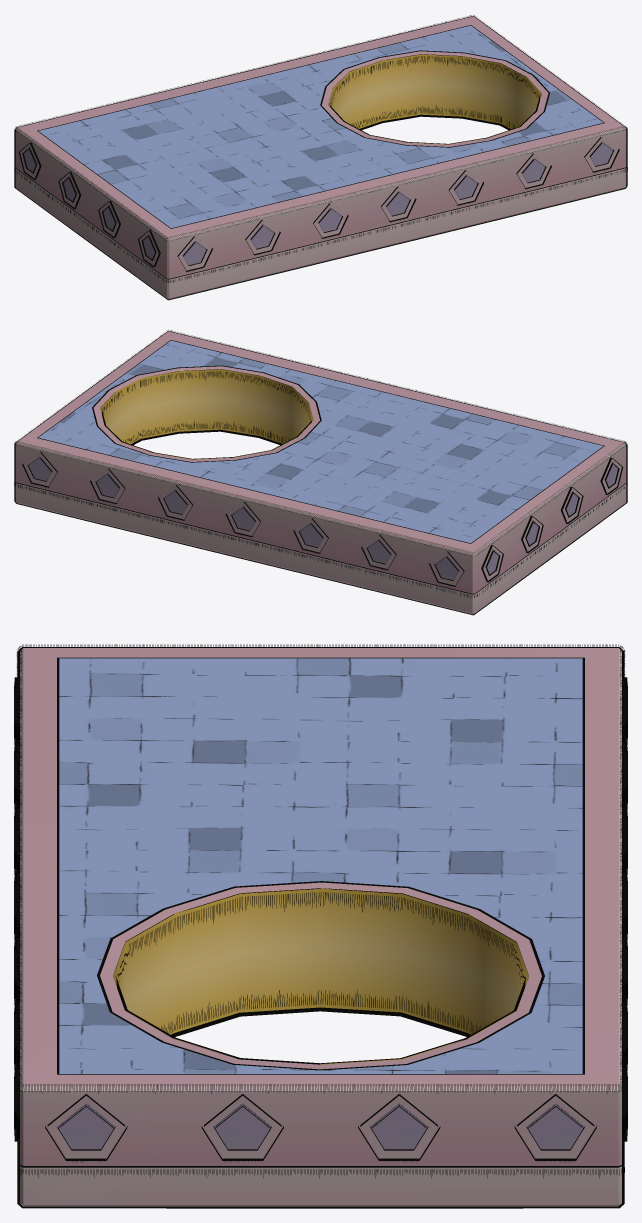
The model's file is roof-hole-01.glb.
3 views of the same model, one above another, from view 1: azimuth 30°, elevation 25°; view 2: azimuth 150°, elevation 25°; view 3: azimuth 270°, elevation 25° (orthographic). The views are drawn at different scales.
Visible parts, largest first — view 1: Roof_Hole_01; view 2: Roof_Hole_01; view 3: Roof_Hole_01.
Boxes of the visible parts, box(x1,y1,x2,y2) form: Roof_Hole_01: box(14, 15, 627, 300); Roof_Hole_01: box(14, 329, 627, 615); Roof_Hole_01: box(14, 644, 627, 1208).
Size of the model in its own units: 9.85 by 1.28 by 5.72.
4 materials, 3 textured.
